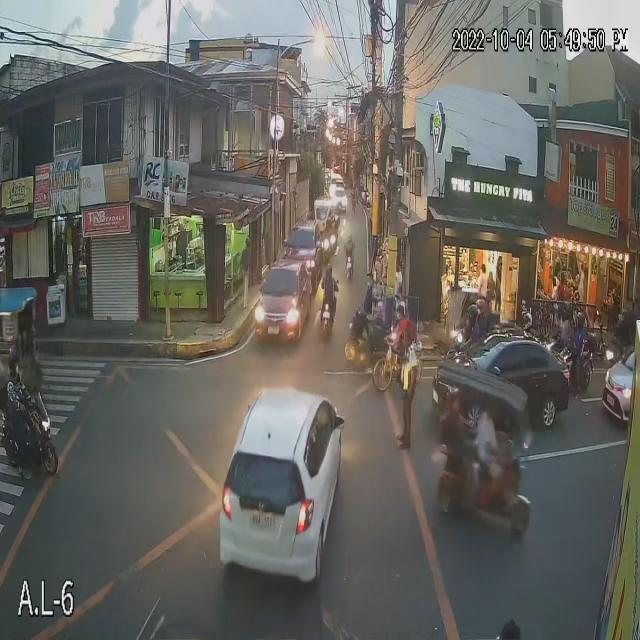helmet: (318, 262, 340, 282), (8, 345, 21, 378), (466, 303, 482, 325), (477, 294, 492, 317), (575, 309, 592, 327), (371, 280, 386, 300), (521, 312, 535, 329), (343, 234, 356, 243)
motorcycle: (0, 392, 61, 475), (539, 342, 602, 397), (349, 311, 387, 371), (310, 289, 350, 339), (342, 252, 358, 283)
rider: (5, 338, 28, 433), (571, 310, 594, 368), (317, 253, 337, 313), (457, 305, 481, 355), (369, 280, 391, 331), (475, 297, 488, 343), (520, 305, 536, 342), (338, 232, 356, 263)
